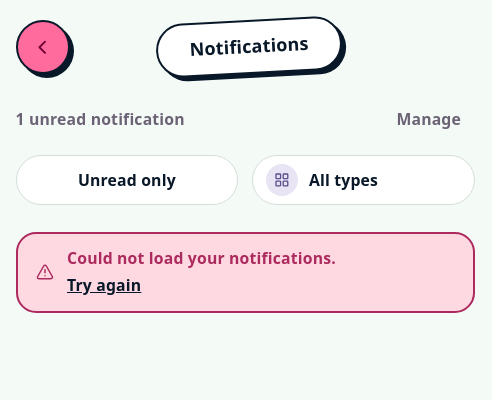
Test: NotificationsPage › retries loading notifications after a failure
Click the button "Try again" at {"x": 104, "y": 285}, box [67,274,141,296]
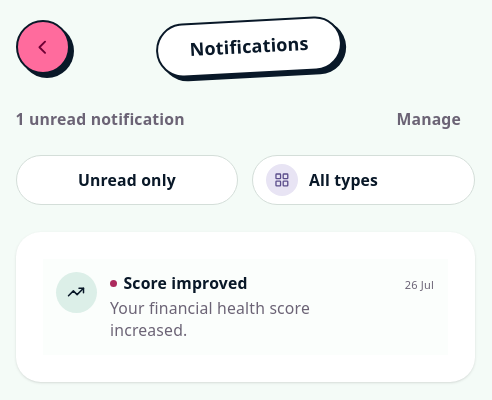
Check: the text "Score improved" is shown, box [124,272,248,294]
